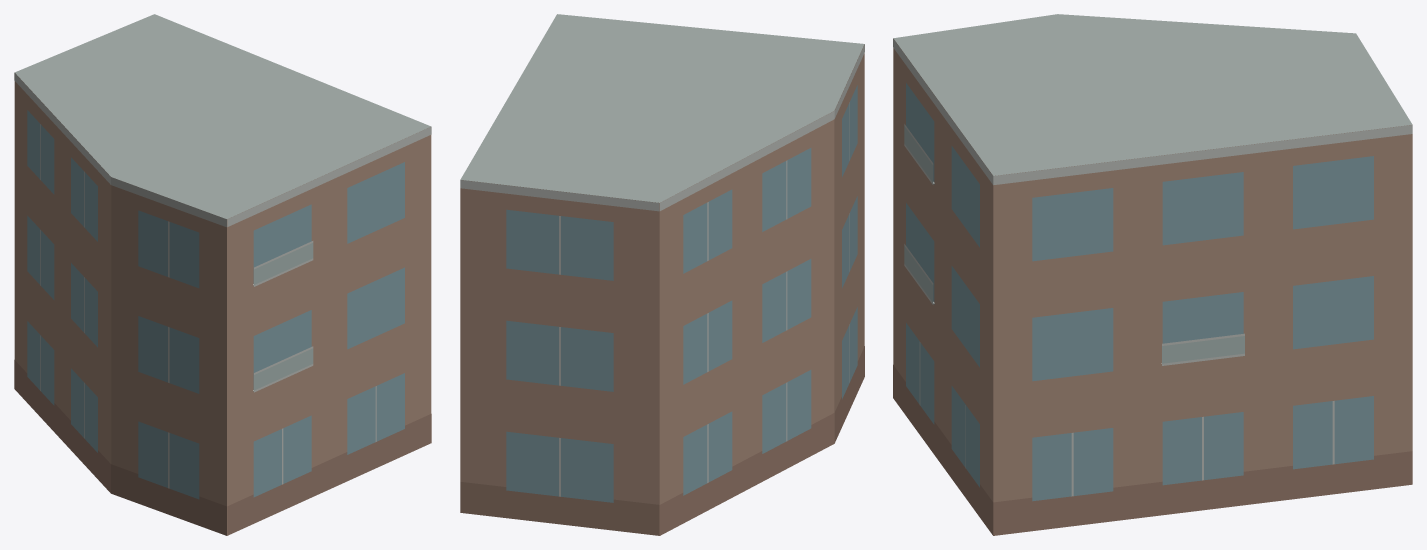
File: survey-upis-32621626.glb
The picture shows the model from 3 angles, left to right: view 1: azimuth 30°, elevation 25°; view 2: azimuth 150°, elevation 25°; view 3: azimuth 270°, elevation 25°; orthographic projection. The views are drawn at different scales.
Parts seen in each view (by area): view 1: survey-upis-32621626.tmp; view 2: survey-upis-32621626.tmp; view 3: survey-upis-32621626.tmp.
Part boxes in pixels (x1,y1,x2,y2): survey-upis-32621626.tmp: [14, 14, 431, 535]; survey-upis-32621626.tmp: [460, 14, 864, 535]; survey-upis-32621626.tmp: [893, 14, 1412, 535].
Bounding box in the file's own units: 9.18 × 9.5 × 12.44.
